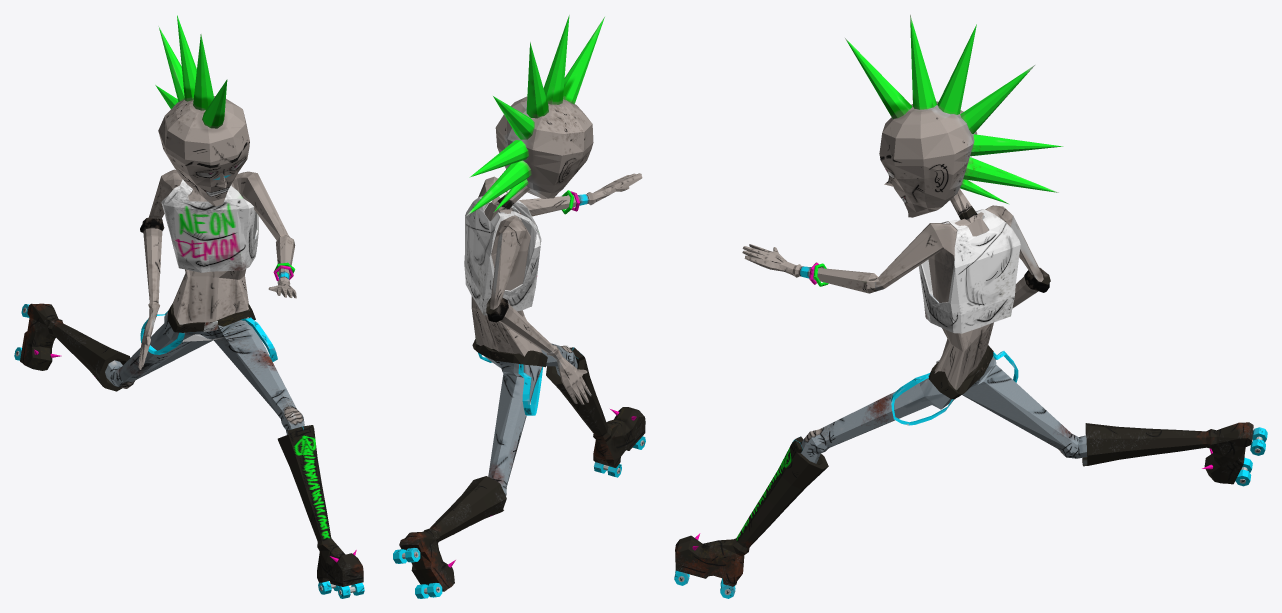
The model's file is punkAnimation_000034.obj.
3 renders of one model, left to right at view 1: azimuth 30°, elevation 25°; view 2: azimuth 150°, elevation 25°; view 3: azimuth 270°, elevation 25°, orthographic. The views are drawn at different scales.
Parts seen in each view (by area): view 1: Cube.004_Cube.003; view 2: Cube.004_Cube.003; view 3: Cube.004_Cube.003.
Boxes of the visible parts, <box> form: Cube.004_Cube.003: <box>14,15,364,598</box>; Cube.004_Cube.003: <box>393,15,645,598</box>; Cube.004_Cube.003: <box>674,14,1267,598</box>.
Size of the model in its own units: 1.57 by 6.44 by 6.24.
